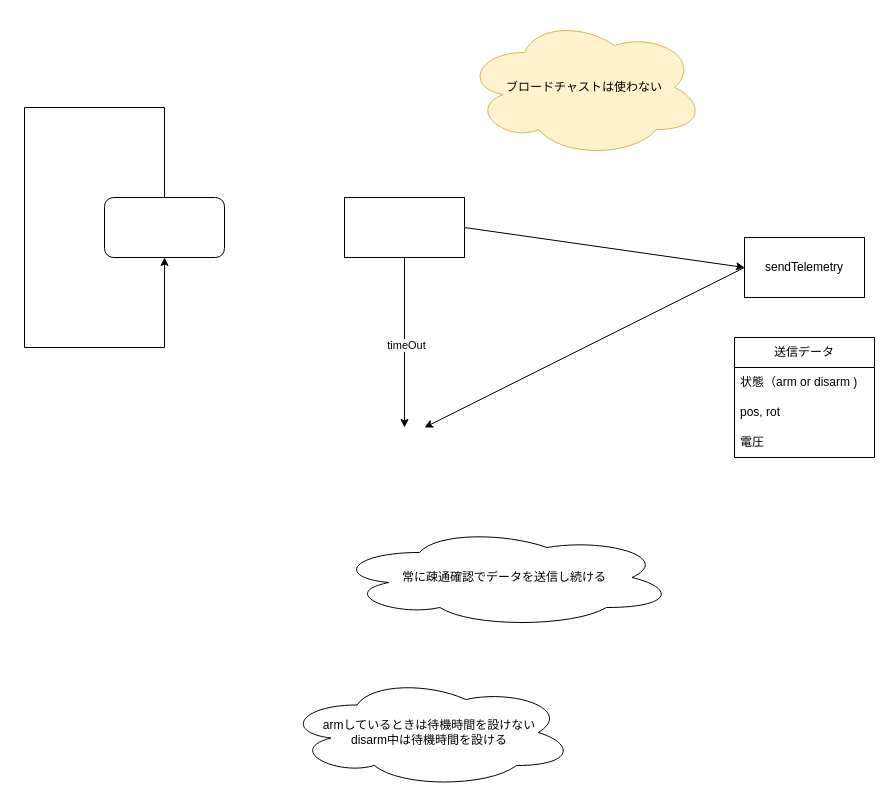
The diagram is 892 pixels wide and 805 high, and some of its shapes have lost their labels. Here are the shapes that lost their labels. From the top down, the box of each, then its label:
(104, 196, 224, 258): send packet
(344, 196, 464, 258): getTelemetry
